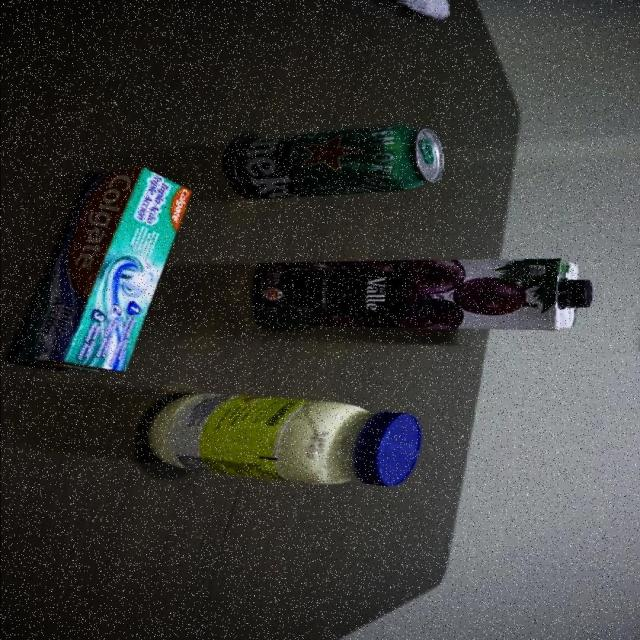BeerCan: (224, 125, 448, 206)
Mayonnaise: (140, 392, 420, 486)
Toothpaste: (5, 166, 194, 372)
